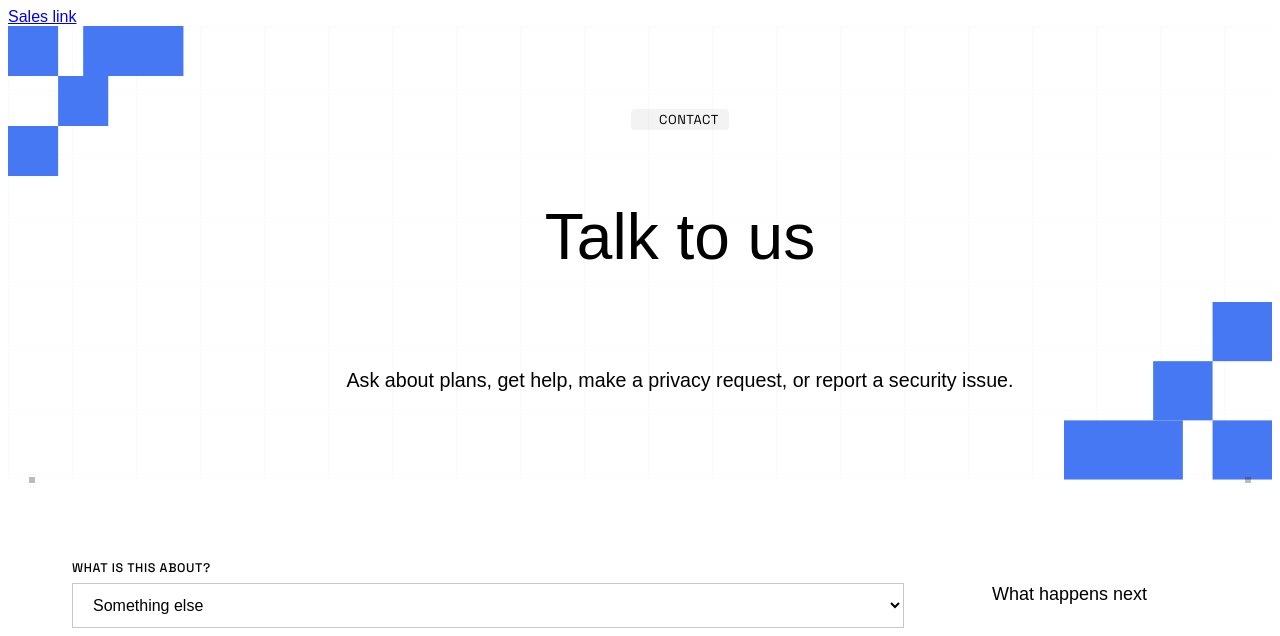
Test: ContactPage: form › follows a new topic in the address while the page is open
Click the link "Sales link" at (42,16), box 8,8 -> 76,25
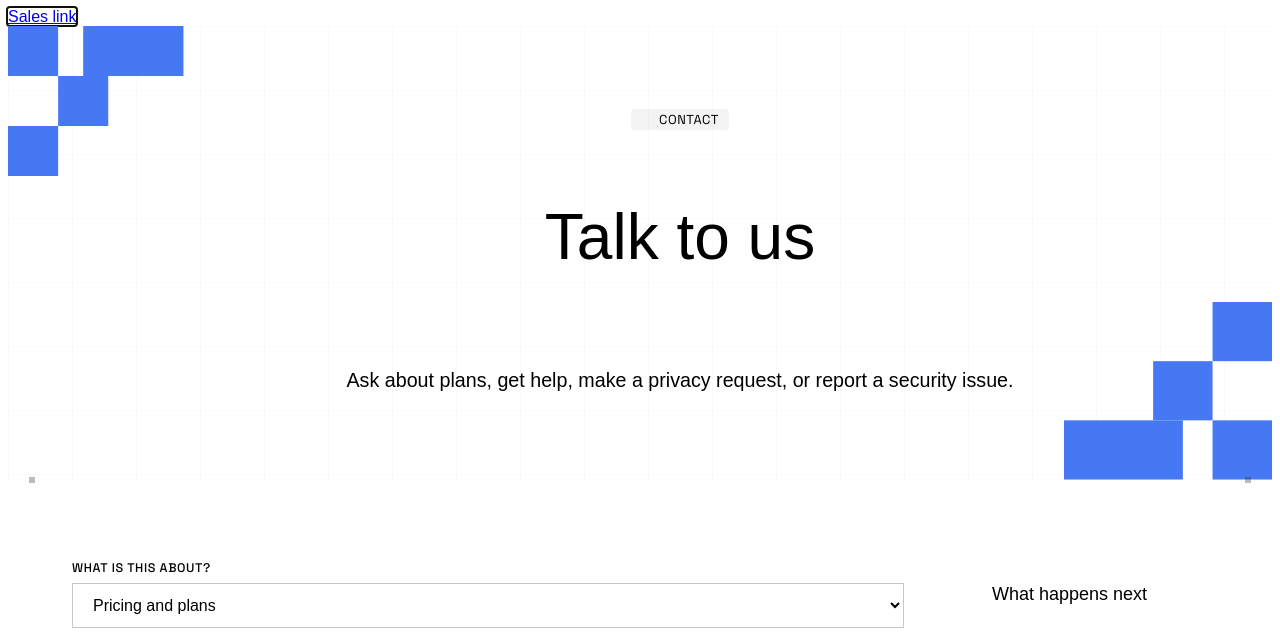
Now the dropdown labelled "What is this about?" shows "Pricing and plans", box 72,583 -> 904,628
